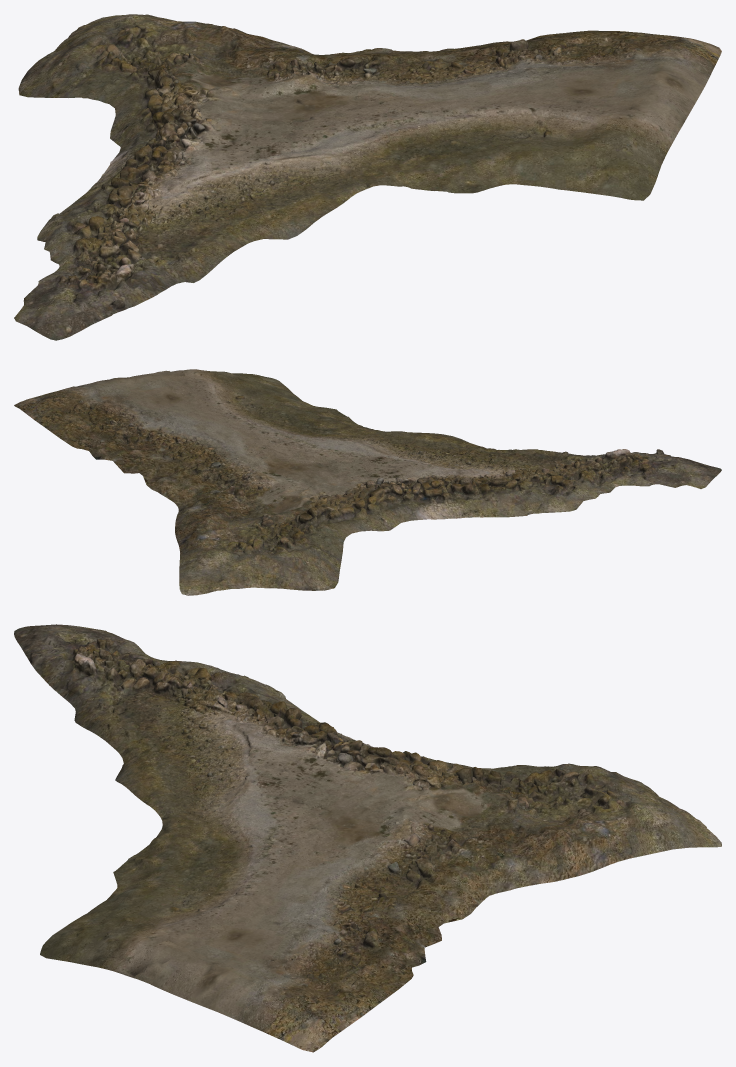
Rendered from rock-coast.glb.
3 views of the same model, one above another, from view 1: azimuth 30°, elevation 25°; view 2: azimuth 150°, elevation 25°; view 3: azimuth 270°, elevation 25° (orthographic). The views are drawn at different scales.
Parts seen in each view (by area): view 1: coast_rocks_01; view 2: coast_rocks_01; view 3: coast_rocks_01.
Boxes of the visible parts, bbox=[...] form: coast_rocks_01: bbox=[14, 14, 721, 340]; coast_rocks_01: bbox=[14, 369, 721, 595]; coast_rocks_01: bbox=[14, 624, 721, 1052].
Size of the model in its own units: 59.51 by 3.29 by 42.52.
Materials: 1 (1 with a texture image).
